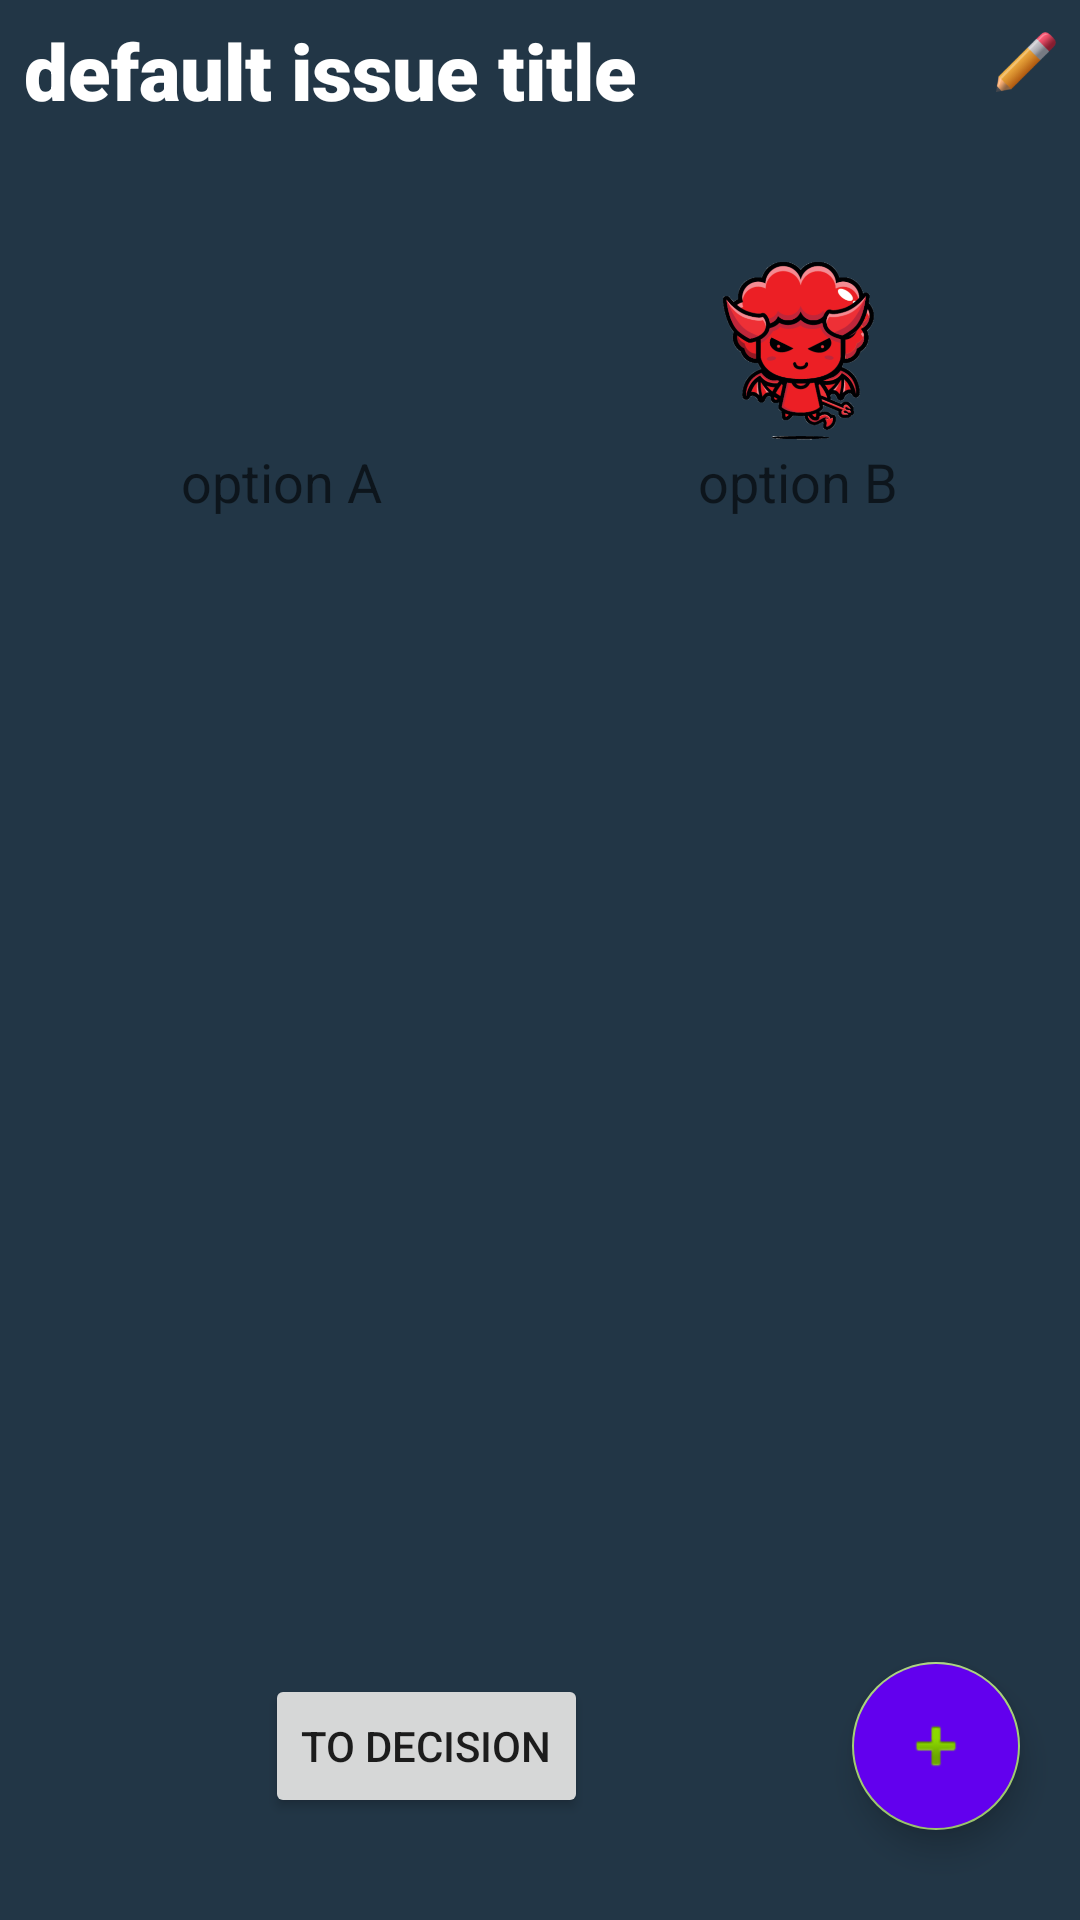

Where icons sit on this 1080x1920 app screen, as {"left": x1, "top": y1, "right": x2, "bottom": y2}:
add: {"left": 852, "top": 1662, "right": 1020, "bottom": 1830}
edit button: {"left": 996, "top": 32, "right": 1056, "bottom": 92}
